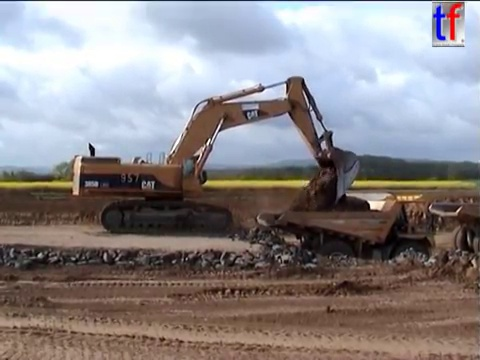excavator: (69, 73, 363, 237)
truck: (254, 192, 441, 282), (426, 200, 480, 264)
